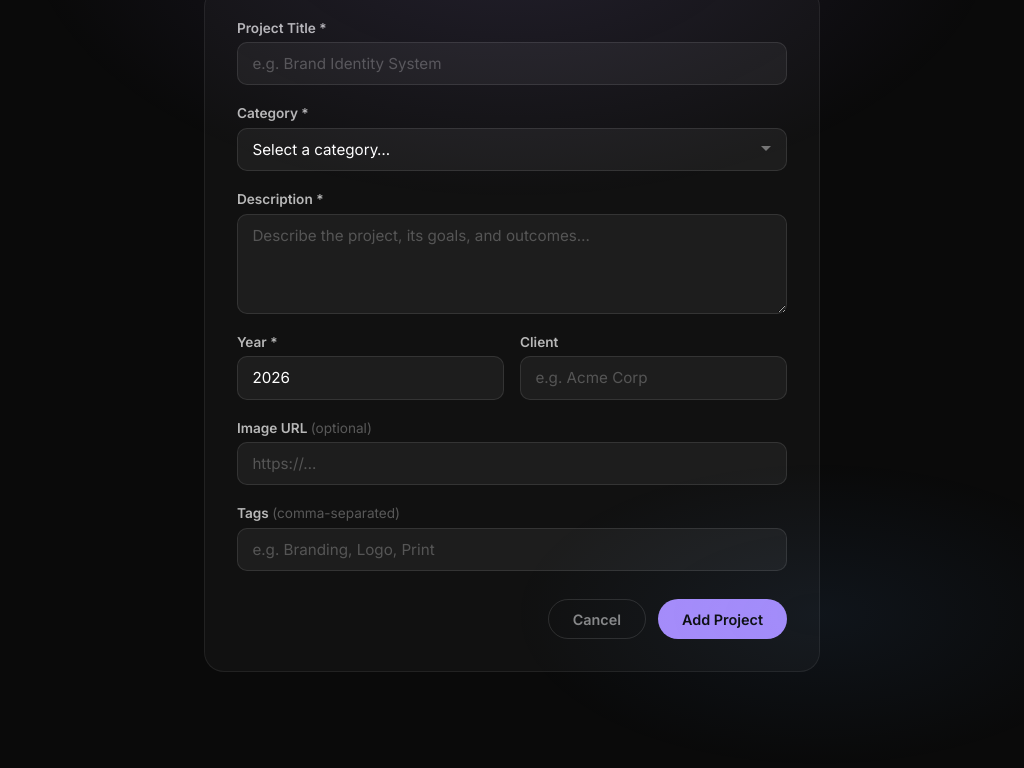
Test: AddProjectPage › shows validation errors when submitted empty
(page scrolled)
Click the button "Add Project" at [722, 619], box [658,599,787,639]
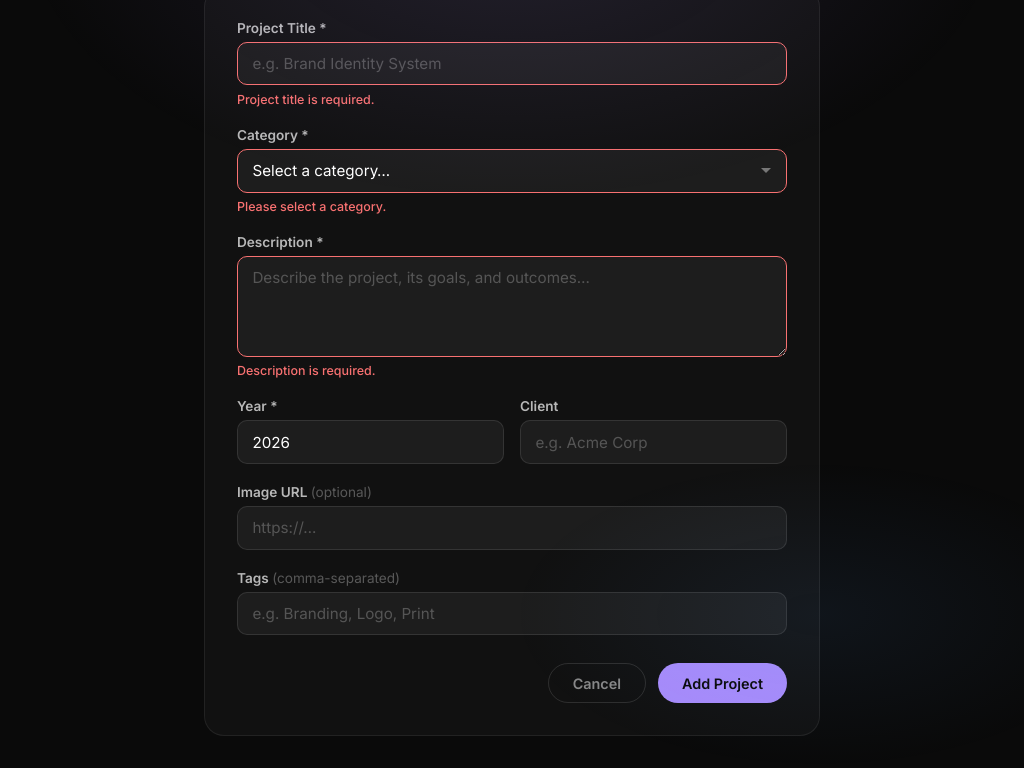
Now the text "Project title is required." is shown, box [237,92,375,107]
Now the text "Please select a category." is shown, box [237,199,386,214]
Now the text "Description is required." is shown, box [237,363,376,378]
